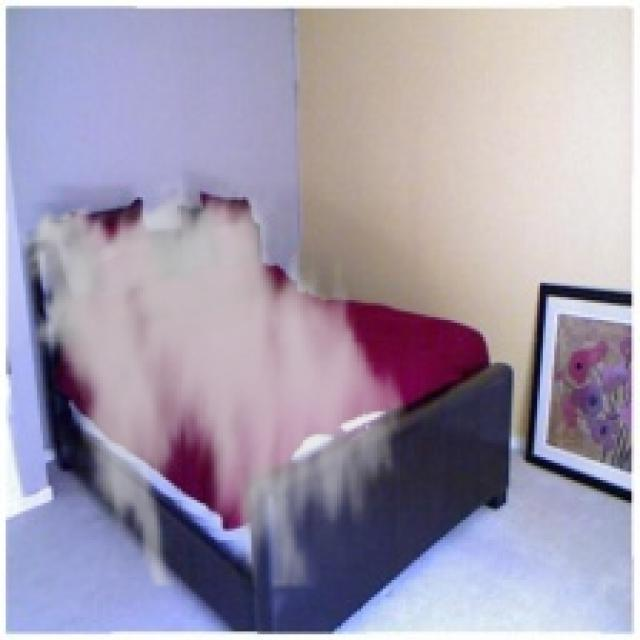Smoke: (6, 174, 417, 589)
